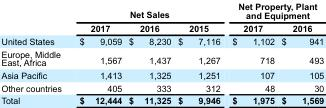table: (0, 0, 323, 105)
table column: (0, 0, 69, 105), (69, 0, 124, 105), (173, 0, 225, 105), (225, 0, 277, 105), (124, 0, 173, 105), (277, 0, 323, 105)
table column header: (0, 0, 323, 34)
table row: (0, 0, 323, 21), (0, 47, 323, 68), (0, 21, 323, 34), (0, 34, 323, 47), (0, 68, 323, 81), (0, 81, 323, 93), (0, 93, 323, 105)
table spanning cell: (69, 0, 225, 21), (225, 0, 323, 21)
